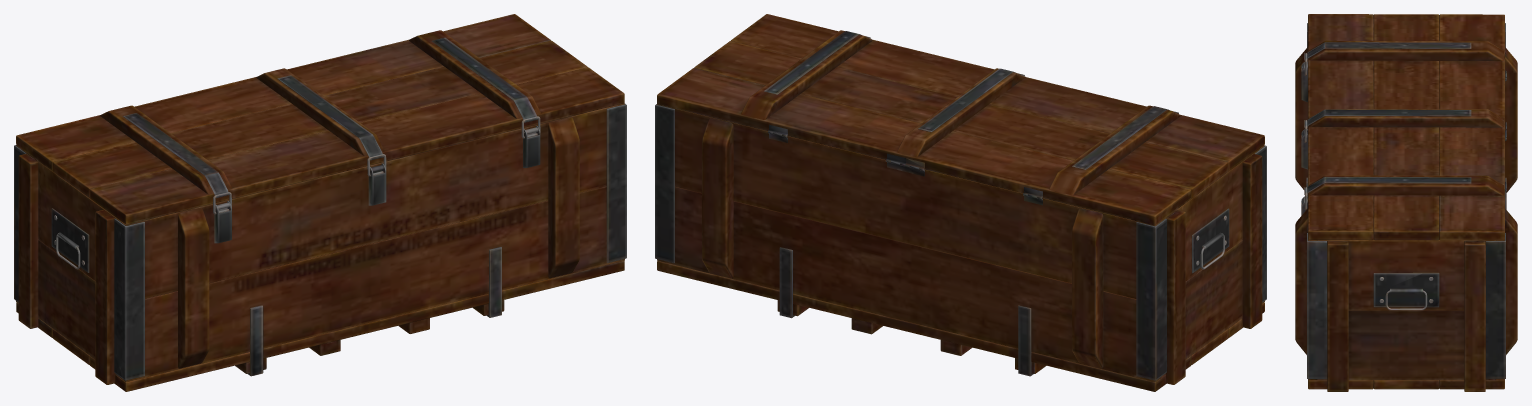
The model's file is wooden_military_crate.glb.
3 renders of one model, left to right at view 1: azimuth 30°, elevation 25°; view 2: azimuth 150°, elevation 25°; view 3: azimuth 270°, elevation 25°, orthographic. The views are drawn at different scales.
Visible parts, largest first — view 1: wooden_military_crate; view 2: wooden_military_crate; view 3: wooden_military_crate.
Boxes of the visible parts, <box> form: wooden_military_crate: <box>14,14,626,391</box>; wooden_military_crate: <box>655,14,1266,391</box>; wooden_military_crate: <box>1295,14,1517,391</box>.
Size of the model in its own units: 1.24 by 0.4648 by 0.5198.
1 material, 1 textured.
